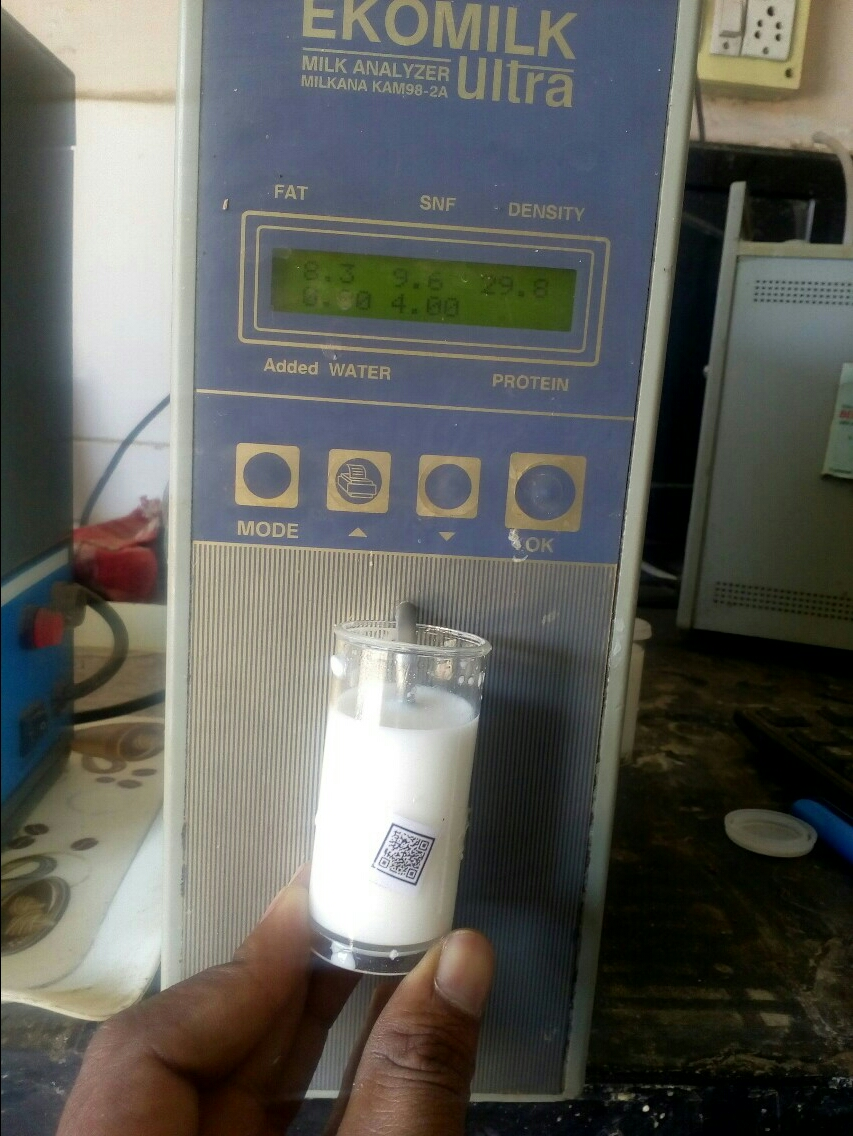lcd: (255, 242, 594, 349)
qr: (361, 818, 455, 892)
